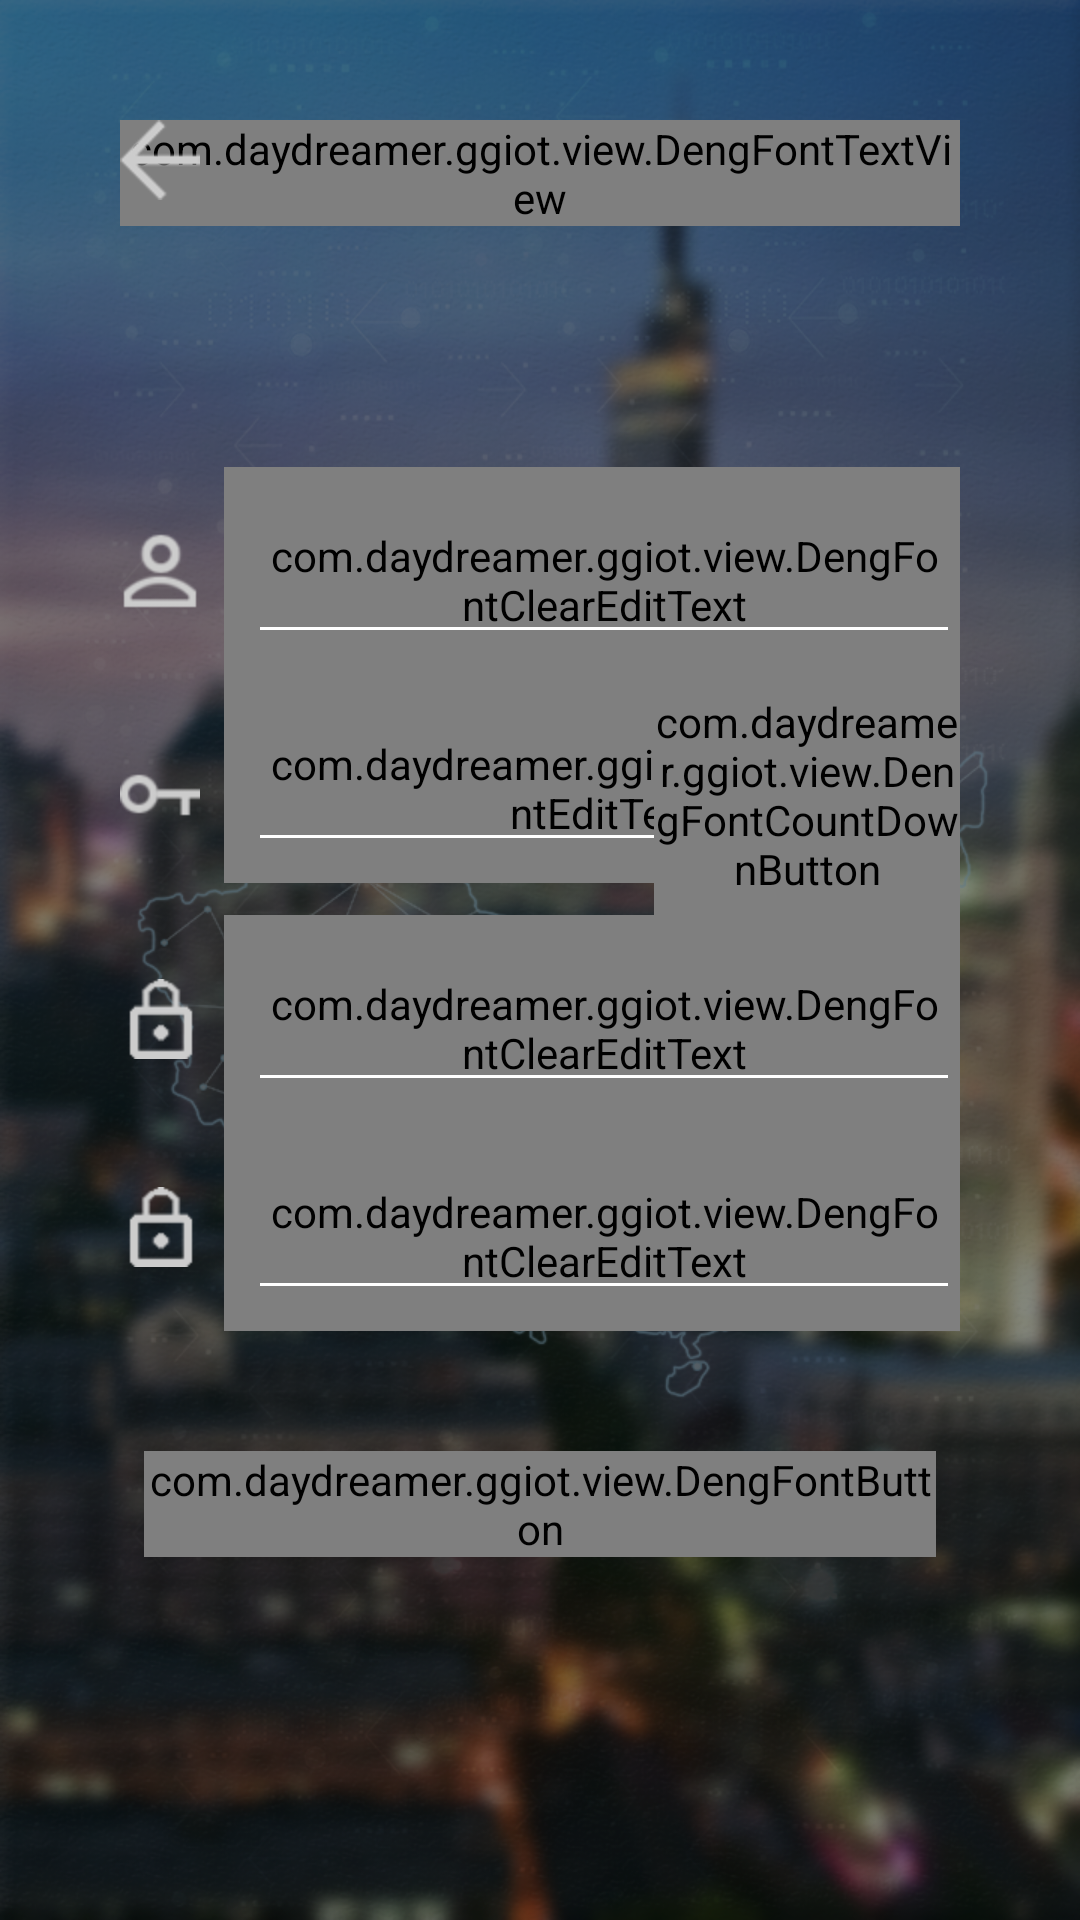

Icons on this 1080w x 1920h Android screen, each with the point to tap as [x,y]:
account activity login register: [160,571]
back activity register retrieve: [160,160]
password activity login register: [160,1019], [161,1227]
verify activity register: [160,795]
